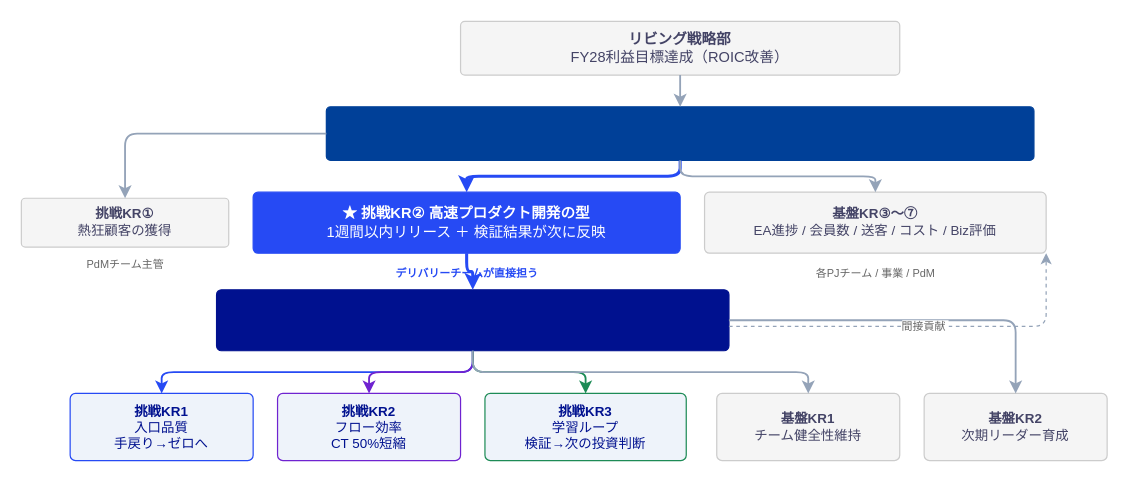
Image size: 1129x482. Some labels were removed from this diagram. The shapes that lost their labels are listed below. From the top down, each one's box as (x1, y1, x2, y2) in pixels, then its label:
(325, 106, 1034, 160): DPG Objective SoE領域のEAを整備し、mTGを中核に日本一のデジタルPFを実現する
(215, 289, 729, 351): デリバリーチーム Objective 投資が最短・最確実に顧客価値へ変換されるデリバリーラインを確立する
